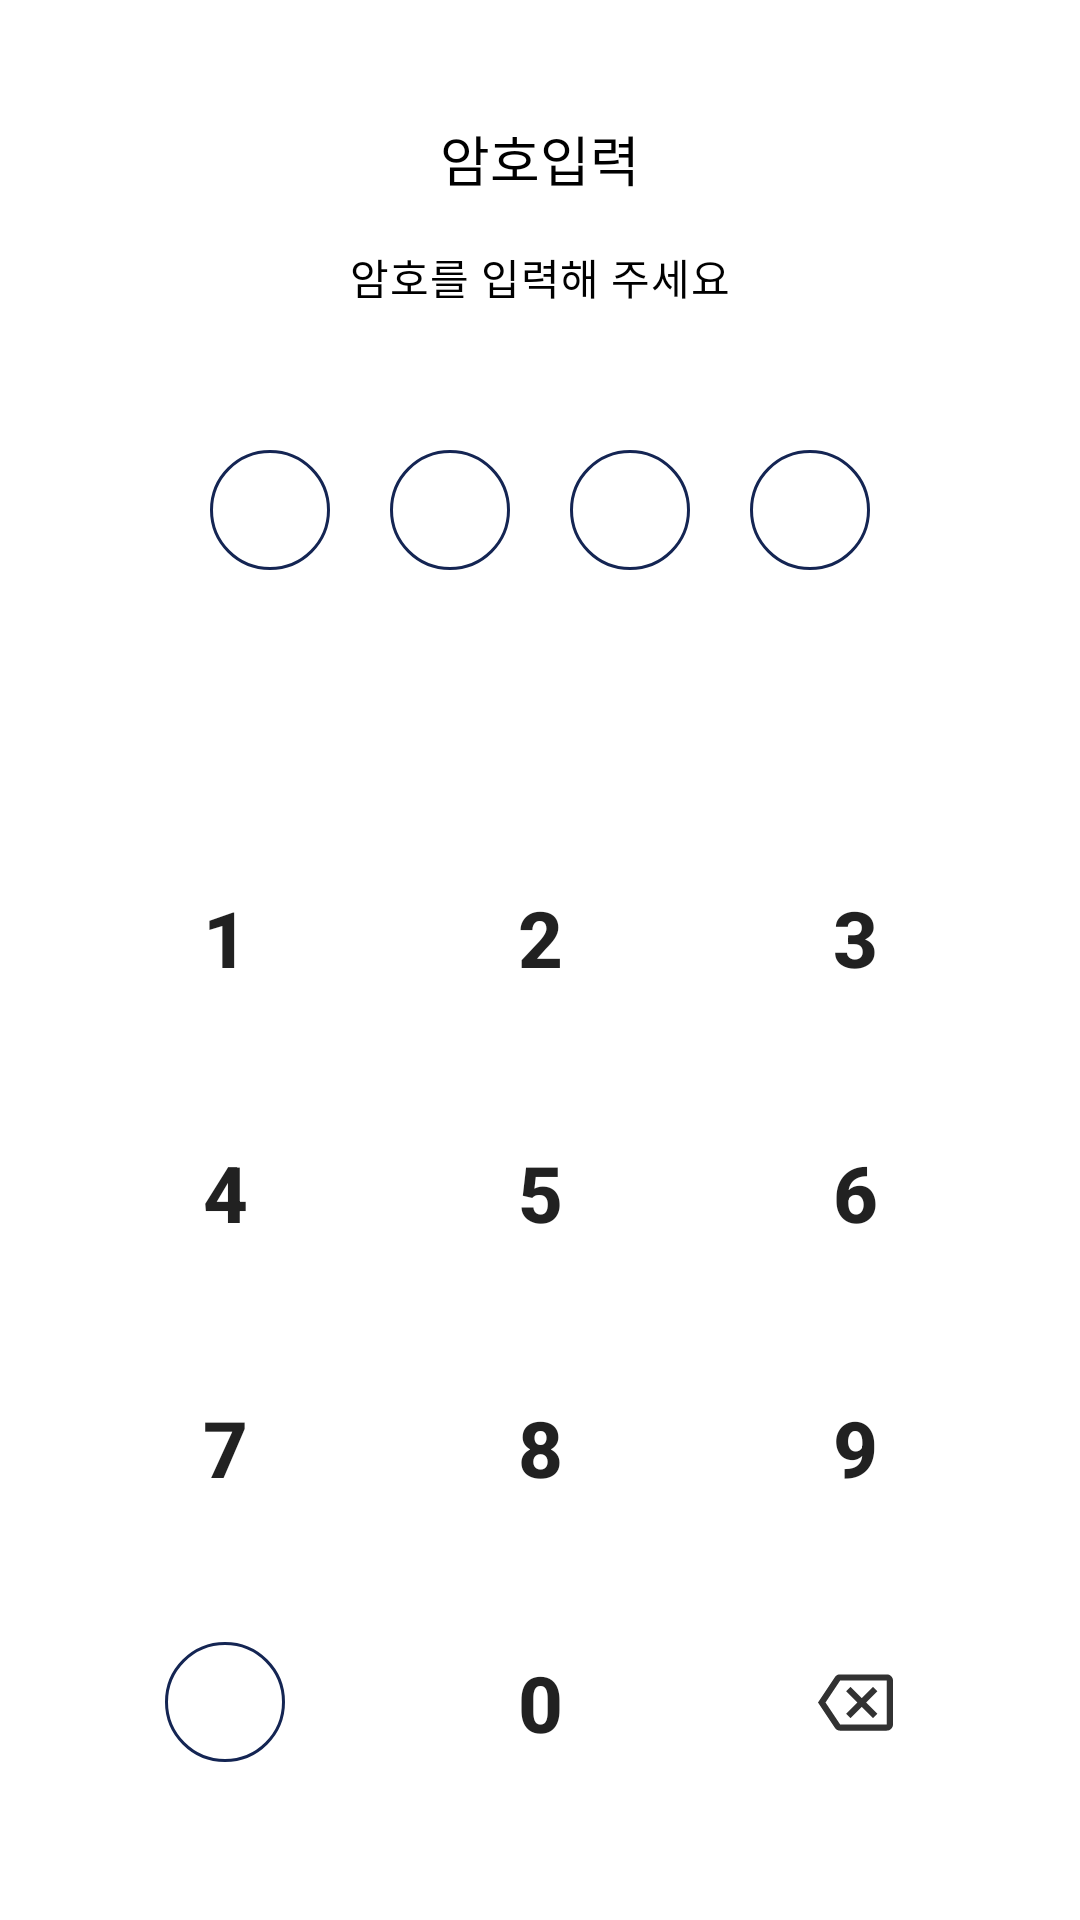

Icons on this 1080×1920 Android screen, each with the point to tap as point (x, y):
back keypad: point (855, 1702)
